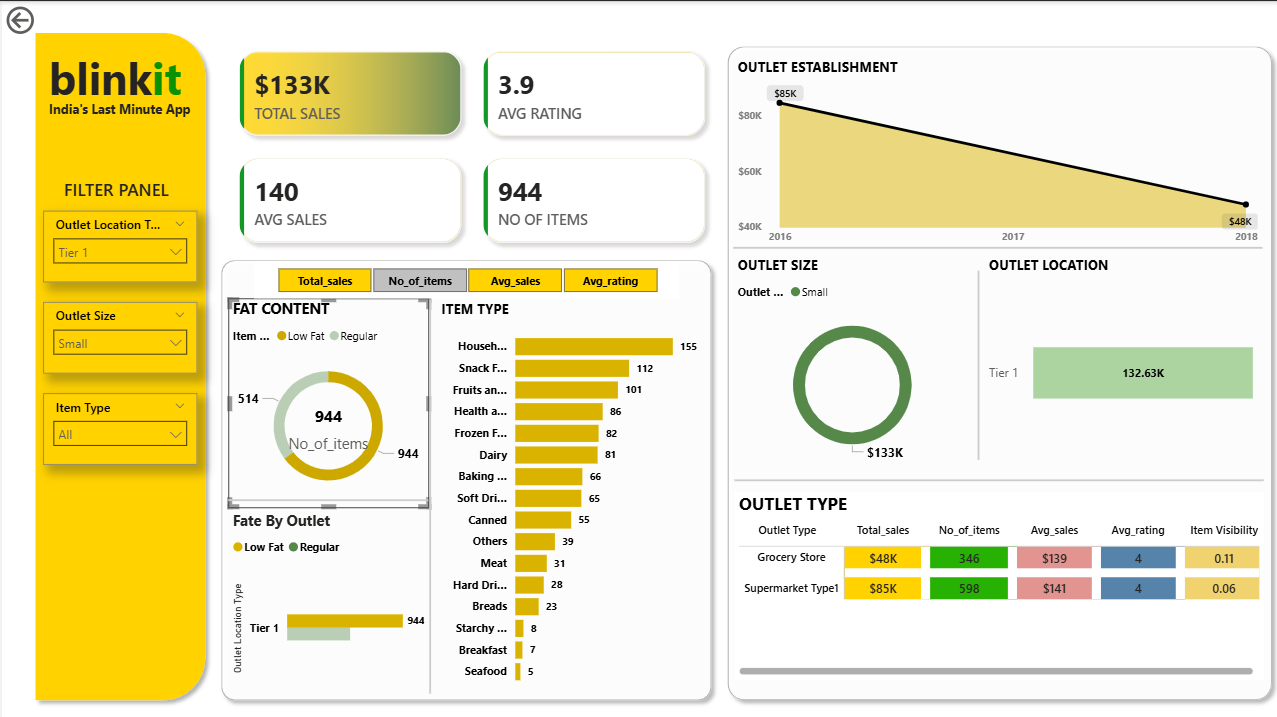

What the dashboard file says about the page in this screenshot:
{"tool":"powerbi","page":{"name":"Page 1","canvas":[1400,800],"ordinal":0},"visuals":[{"type":"shape","box":[27.3,24.5,204.5,749.8],"z":0},{"type":"textbox","box":[46.4,45,165,75],"z":1000},{"type":"textbox","box":[46.4,102.3,169.1,35.4],"z":2000},{"type":"actionButton","box":[0,0,100,40],"z":3000},{"type":"cardVisual","fields":{"Data":["BlinkIT Grocery Data.Total_sales","BlinkIT Grocery Data.Avg_rating","BlinkIT Grocery Data.Avg_sales","BlinkIT Grocery Data.No_of_items"]},"box":[231.8,24.5,569.9,269.9],"z":4000},{"type":"shape","box":[231.8,274,554.9,500.3],"z":5000},{"type":"donutChart","title":"FAT CONTENT","fields":{"Y":["BlinkIT Grocery Data.Total_sales"],"Category":["BlinkIT Grocery Data.Item Fat Content"]},"box":[248.6,324.5,219.6,230.6],"z":6000},{"type":"slicer","fields":{"Values":["Metrics.Metrics"]},"box":[276.2,284.5,465.4,40],"z":7000},{"type":"card","fields":{"Values":["BlinkIT Grocery Data.Total_sales"]},"box":[287.7,428.1,140.4,76.3],"z":8000},{"type":"clusteredBarChart","title":"Fate By Outlet","fields":{"Y":["BlinkIT Grocery Data.Total_sales"],"Category":["BlinkIT Grocery Data.Outlet Location Type"],"Series":["BlinkIT Grocery Data.Item Fat Content"]},"box":[248.6,555.7,220,202.9],"z":9000},{"type":"shape","box":[248.6,537.2,219.6,18],"z":10000},{"type":"shape","box":[461.2,325.9,15.2,432.2],"z":11000},{"type":"barChart","title":"ITEM TYPE","fields":{"Y":["BlinkIT Grocery Data.Total_sales"],"Category":["BlinkIT Grocery Data.Item Type"]},"box":[476.4,325.9,292.8,432.2],"z":12000},{"type":"shape","box":[785.7,40,614.3,734.3],"z":13000},{"type":"lineChart","title":"OUTLET ESTABLISHMENT","fields":{"Category":["BlinkIT Grocery Data.Outlet Establishment Year"],"Y":["BlinkIT Grocery Data.Total_sales"]},"box":[801.4,60,580,214.3],"z":14000},{"type":"shape","box":[801.4,264.3,580,10],"z":15000},{"type":"donutChart","title":"OUTLET SIZE","fields":{"Y":["BlinkIT Grocery Data.Total_sales"],"Category":["BlinkIT Grocery Data.Outlet Size"]},"box":[801.4,278.6,261.4,235.7],"z":16000},{"type":"shape","box":[1062.9,294.3,14.3,207.1],"z":17000},{"type":"funnel","title":"OUTLET LOCATION","fields":{"Y":["Sum(BlinkIT Grocery Data.Sales)"],"Category":["BlinkIT Grocery Data.Outlet Location Type"]},"box":[1077.1,278.6,304.3,235.7],"z":18000},{"type":"shape","box":[802.9,518.6,580,10],"z":19000},{"type":"pivotTable","title":"OUTLET TYPE","fields":{"Rows":["BlinkIT Grocery Data.Outlet Type"],"Values":["BlinkIT Grocery Data.Total_sales","BlinkIT Grocery Data.No_of_items","BlinkIT Grocery Data.Avg_sales","BlinkIT Grocery Data.Avg_rating","Avg(BlinkIT Grocery Data.Item Visibility)"]},"box":[802.9,537.1,580,205.7],"z":20000},{"type":"slicer","fields":{"Values":["BlinkIT Grocery Data.Outlet Location Type"]},"box":[45.7,228.6,168.6,78.6],"z":21000},{"type":"slicer","fields":{"Values":["BlinkIT Grocery Data.Outlet Size"]},"box":[45.7,328.6,168.6,78.6],"z":22000},{"type":"slicer","fields":{"Values":["BlinkIT Grocery Data.Item Type"]},"box":[45.7,428.6,168.6,78.6],"z":23000},{"type":"textbox","box":[62.9,187.1,130,57.1],"z":24000}]}

Visuals, with their boxes on the page's 1400x800 design canvas (x1, y1, x2, y2). These are canvas units, not pixel positions in the 1277x717 screenshot, which may show the page scaled, cropped or inside an application window:
shape: {"x1": 27, "y1": 24, "x2": 232, "y2": 774}
textbox: {"x1": 46, "y1": 45, "x2": 211, "y2": 120}
textbox: {"x1": 46, "y1": 102, "x2": 216, "y2": 138}
actionButton: {"x1": 0, "y1": 0, "x2": 100, "y2": 40}
cardVisual - BlinkIT Grocery Data.Total_sales x BlinkIT Grocery Data.Avg_rating: {"x1": 232, "y1": 24, "x2": 802, "y2": 294}
shape: {"x1": 232, "y1": 274, "x2": 787, "y2": 774}
"FAT CONTENT" donutChart: {"x1": 249, "y1": 324, "x2": 468, "y2": 555}
slicer - Metrics.Metrics: {"x1": 276, "y1": 284, "x2": 742, "y2": 324}
card - BlinkIT Grocery Data.Total_sales: {"x1": 288, "y1": 428, "x2": 428, "y2": 504}
"Fate By Outlet" clusteredBarChart: {"x1": 249, "y1": 556, "x2": 469, "y2": 759}
shape: {"x1": 249, "y1": 537, "x2": 468, "y2": 555}
shape: {"x1": 461, "y1": 326, "x2": 476, "y2": 758}
"ITEM TYPE" barChart: {"x1": 476, "y1": 326, "x2": 769, "y2": 758}
shape: {"x1": 786, "y1": 40, "x2": 1400, "y2": 774}
"OUTLET ESTABLISHMENT" lineChart: {"x1": 801, "y1": 60, "x2": 1381, "y2": 274}
shape: {"x1": 801, "y1": 264, "x2": 1381, "y2": 274}
"OUTLET SIZE" donutChart: {"x1": 801, "y1": 279, "x2": 1063, "y2": 514}
shape: {"x1": 1063, "y1": 294, "x2": 1077, "y2": 501}
"OUTLET LOCATION" funnel: {"x1": 1077, "y1": 279, "x2": 1381, "y2": 514}
shape: {"x1": 803, "y1": 519, "x2": 1383, "y2": 529}
"OUTLET TYPE" pivotTable: {"x1": 803, "y1": 537, "x2": 1383, "y2": 743}
slicer - BlinkIT Grocery Data.Outlet Location Type: {"x1": 46, "y1": 229, "x2": 214, "y2": 307}
slicer - BlinkIT Grocery Data.Outlet Size: {"x1": 46, "y1": 329, "x2": 214, "y2": 407}
slicer - BlinkIT Grocery Data.Item Type: {"x1": 46, "y1": 429, "x2": 214, "y2": 507}
textbox: {"x1": 63, "y1": 187, "x2": 193, "y2": 244}
